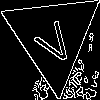V: (28, 12, 78, 69)
